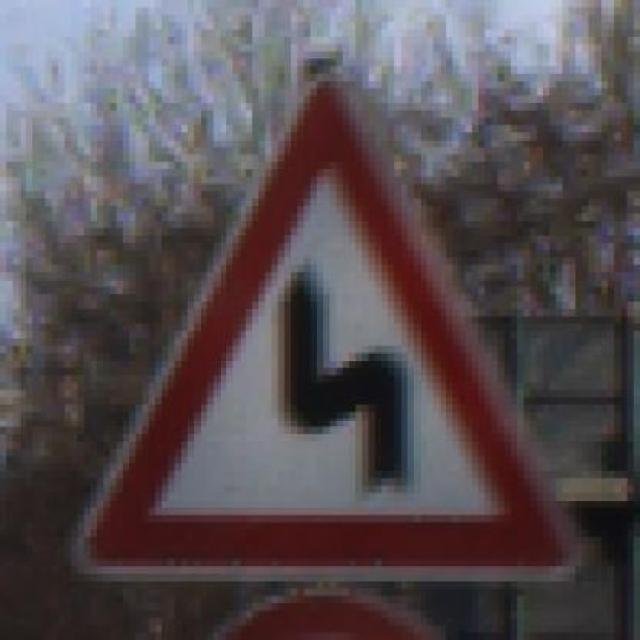Left Zig Zag Traffic: (77, 81, 588, 604)
